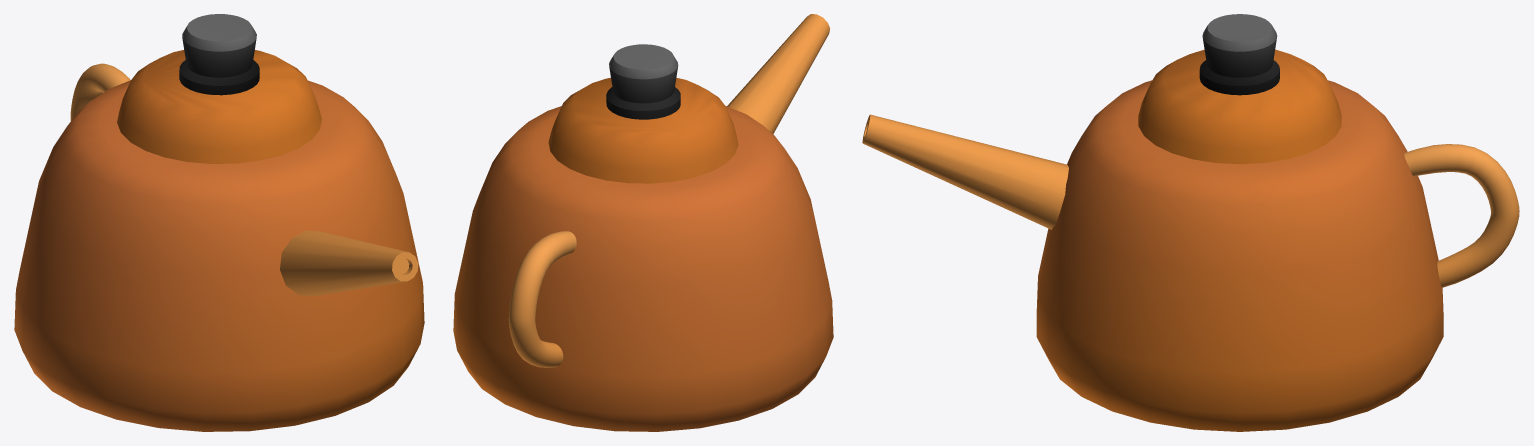
Rendered from Tea Pot_8.fbx.
The picture shows the model from 3 angles, left to right: view 1: azimuth 30°, elevation 25°; view 2: azimuth 150°, elevation 25°; view 3: azimuth 270°, elevation 25°; orthographic projection. The views are drawn at different scales.
Parts seen in each view (by area): view 1: Tea Pot_8, Tea Pot_8 Top; view 2: Tea Pot_8, Tea Pot_8 Top; view 3: Tea Pot_8, Tea Pot_8 Top.
Part boxes in pixels (bbox=[...]): Tea Pot_8: bbox=[14, 63, 424, 431]; Tea Pot_8 Top: bbox=[117, 14, 321, 163]; Tea Pot_8: bbox=[453, 14, 833, 431]; Tea Pot_8 Top: bbox=[548, 44, 738, 183]; Tea Pot_8: bbox=[862, 80, 1519, 431]; Tea Pot_8 Top: bbox=[1138, 14, 1341, 164].
Size of the model in its own units: 0.2122 by 0.189 by 0.3401.
